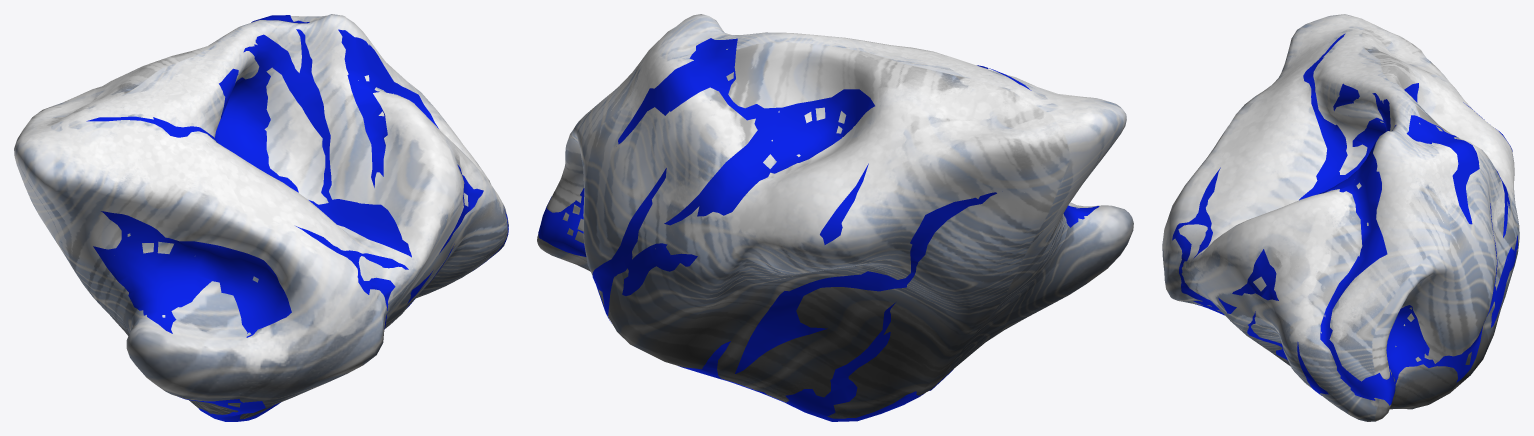
The model's file is Comet_Cracks 1.fbx.
The picture shows the model from 3 angles, left to right: view 1: azimuth 30°, elevation 25°; view 2: azimuth 150°, elevation 25°; view 3: azimuth 270°, elevation 25°; orthographic projection. The views are drawn at different scales.
Parts seen in each view (by area): view 1: Comet, Comet_Cracks; view 2: Comet, Comet_Cracks; view 3: Comet, Comet_Cracks.
Part boxes in pixels (bbox=[...]): Comet: bbox=[14, 14, 508, 419]; Comet_Cracks: bbox=[86, 15, 508, 421]; Comet: bbox=[537, 14, 1133, 418]; Comet_Cracks: bbox=[538, 38, 1099, 421]; Comet: bbox=[1162, 14, 1519, 421]; Comet_Cracks: bbox=[1172, 33, 1517, 405].
Bounding box in the file's own units: 2988 × 2093 × 2117.
